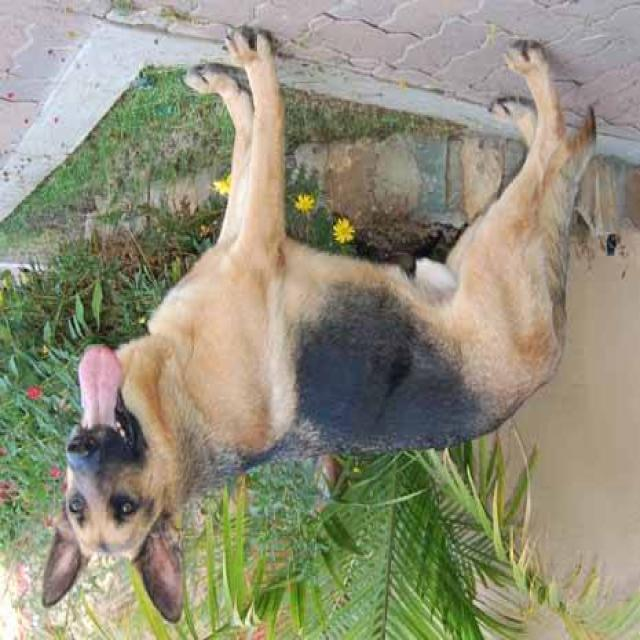dog: (25, 26, 640, 640)
